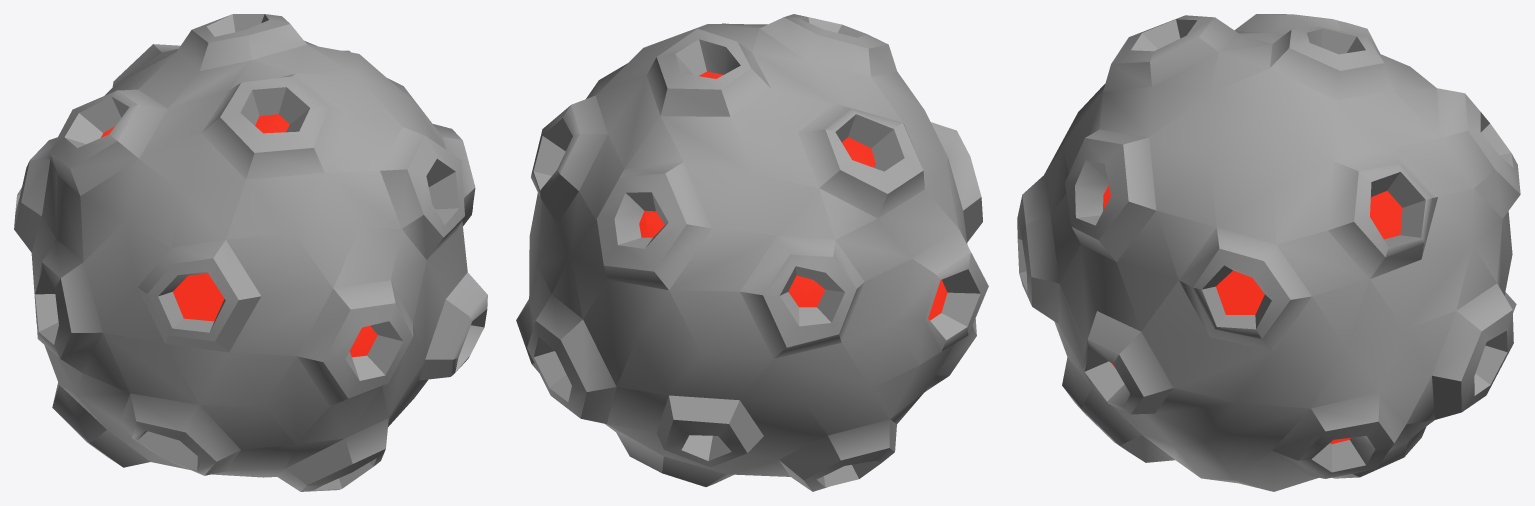
File: planet_king.fbx
The picture shows the model from 3 angles, left to right: view 1: azimuth 30°, elevation 25°; view 2: azimuth 150°, elevation 25°; view 3: azimuth 270°, elevation 25°; orthographic projection. The views are drawn at different scales.
Visible parts, largest first — view 1: Planet4; view 2: Planet4; view 3: Planet4.
Part boxes in pixels (x1,y1,x2,y2): Planet4: [14, 14, 487, 491]; Planet4: [516, 14, 988, 491]; Planet4: [1017, 14, 1520, 491].
Bounding box in the file's own units: 65.72 × 64.42 × 66.39.
